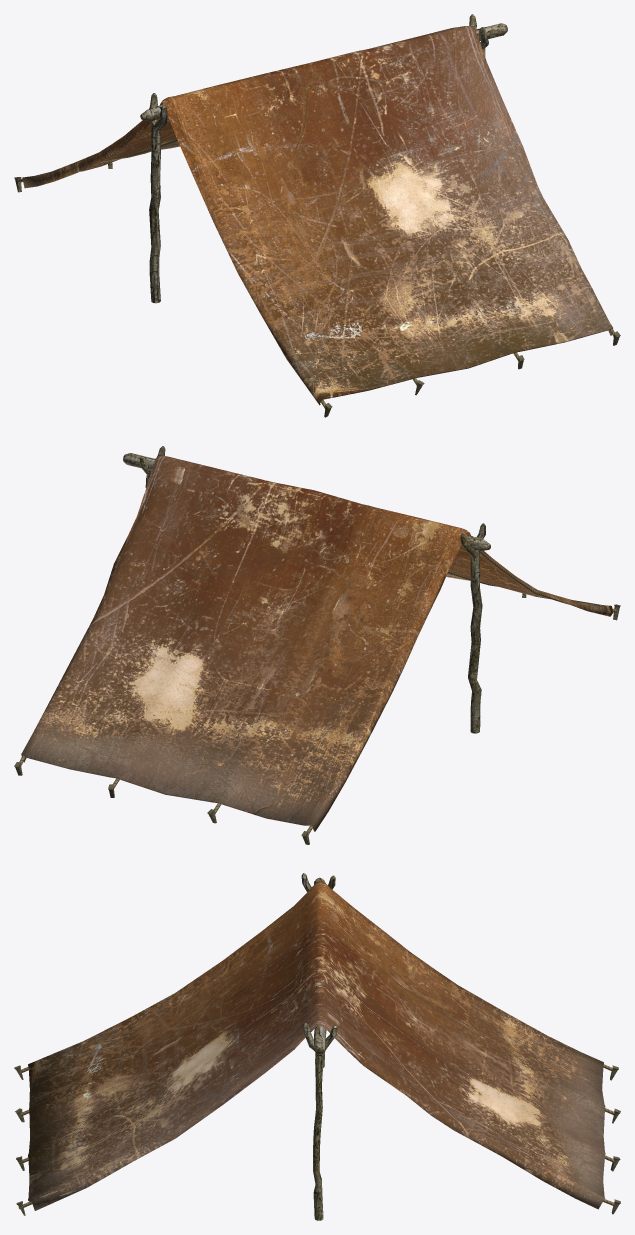
The model's file is medievalTentSmall.fbx.
3 renders of one model, top to bottom at view 1: azimuth 30°, elevation 25°; view 2: azimuth 150°, elevation 25°; view 3: azimuth 270°, elevation 25°, orthographic. The views are drawn at different scales.
Visible parts, largest first — view 1: Tent; view 2: Tent; view 3: Tent.
Part boxes in pixels (left/top/right/bottom): Tent: left=14, top=14, right=620, bottom=417; Tent: left=14, top=446, right=620, bottom=844; Tent: left=14, top=873, right=620, bottom=1220.
Size of the model in its own units: 2.76 by 1.5 by 4.16.
